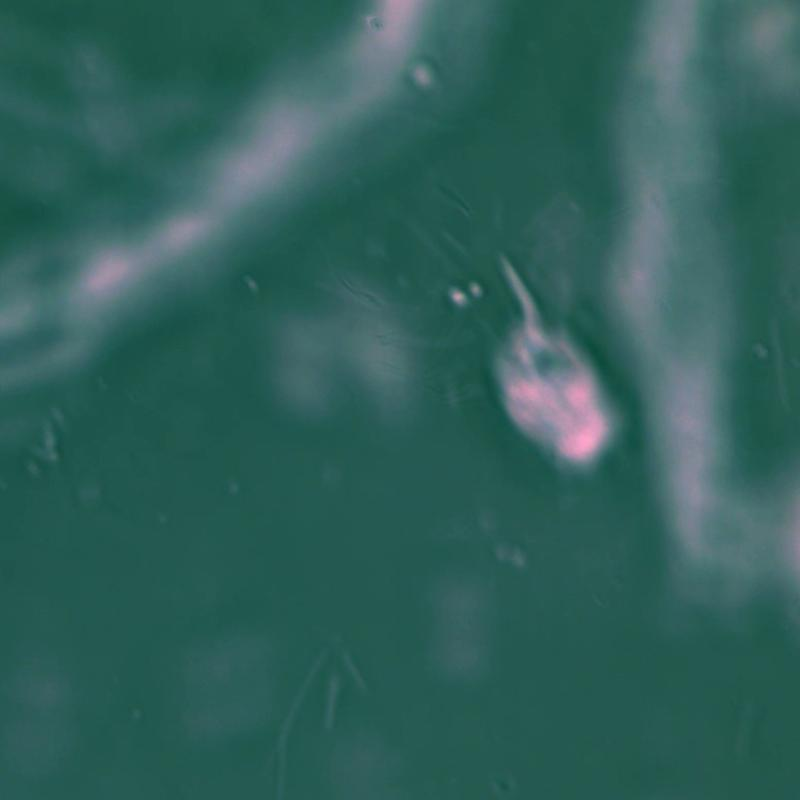depth:100: (460, 224, 647, 508)
